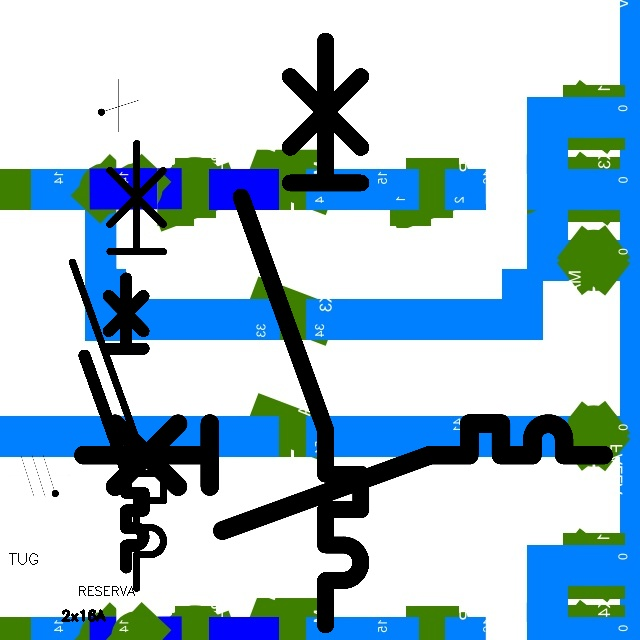interruptor_termomagnetico: (226, 26, 376, 640), (69, 410, 616, 544), (61, 131, 175, 599), (77, 271, 151, 575)
